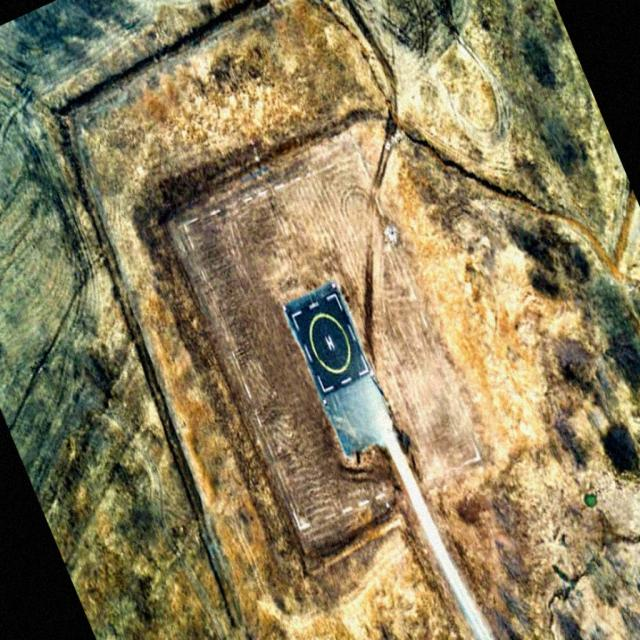helipad: (306, 310, 351, 373)
